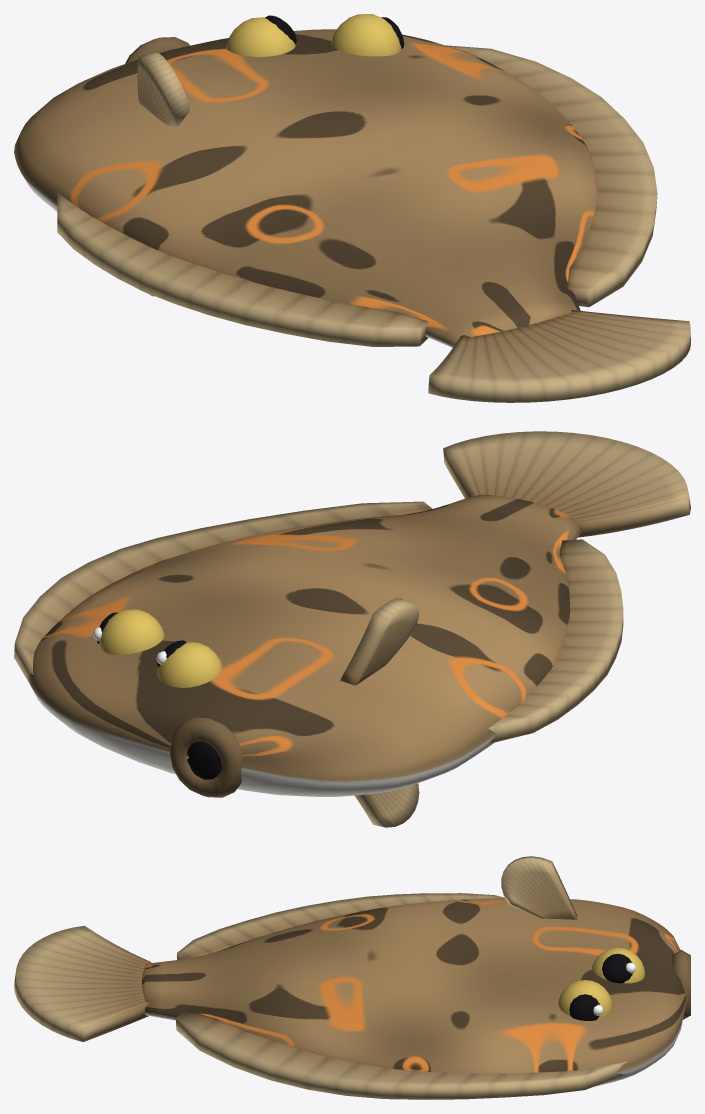
Rendered from Flounder.fbx.
3 views of the same model, one above another, from view 1: azimuth 30°, elevation 25°; view 2: azimuth 150°, elevation 25°; view 3: azimuth 270°, elevation 25° (orthographic). The views are drawn at different scales.
Visible parts, largest first — view 1: Flounder; view 2: Flounder; view 3: Flounder.
Boxes of the visible parts, <box> form: Flounder: <box>14,14,690,402</box>; Flounder: <box>14,431,690,827</box>; Flounder: <box>14,856,690,1099</box>.
Bounding box in the file's own units: 172 × 72.92 × 248.
1 material, 1 textured.
